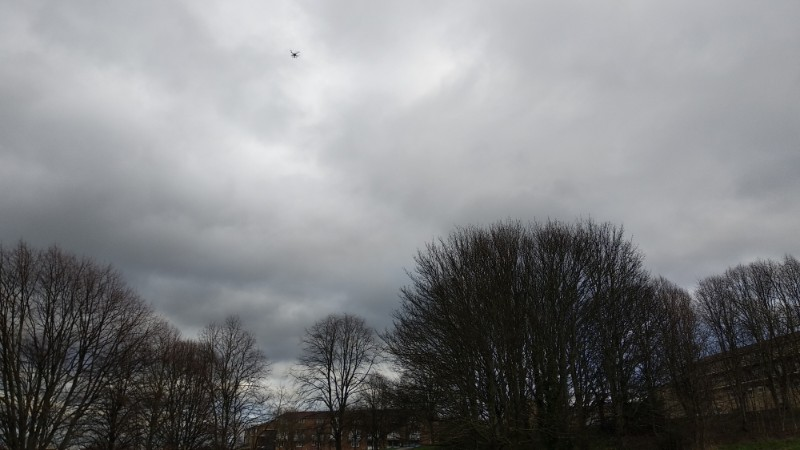drone: (289, 50, 300, 58)
